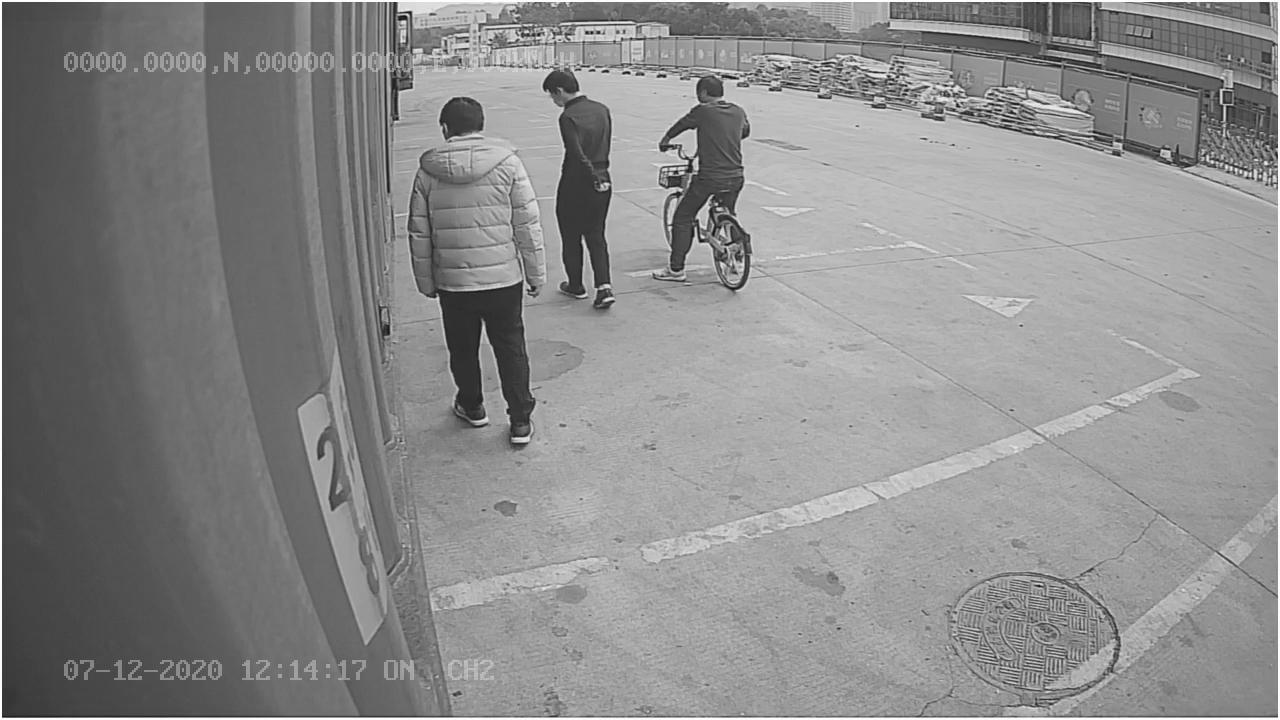person: (408, 87, 550, 446)
